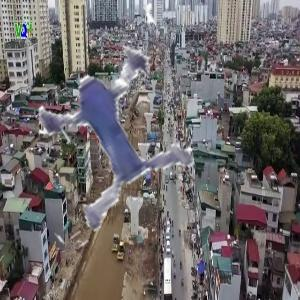drone: (2, 24, 219, 241)
